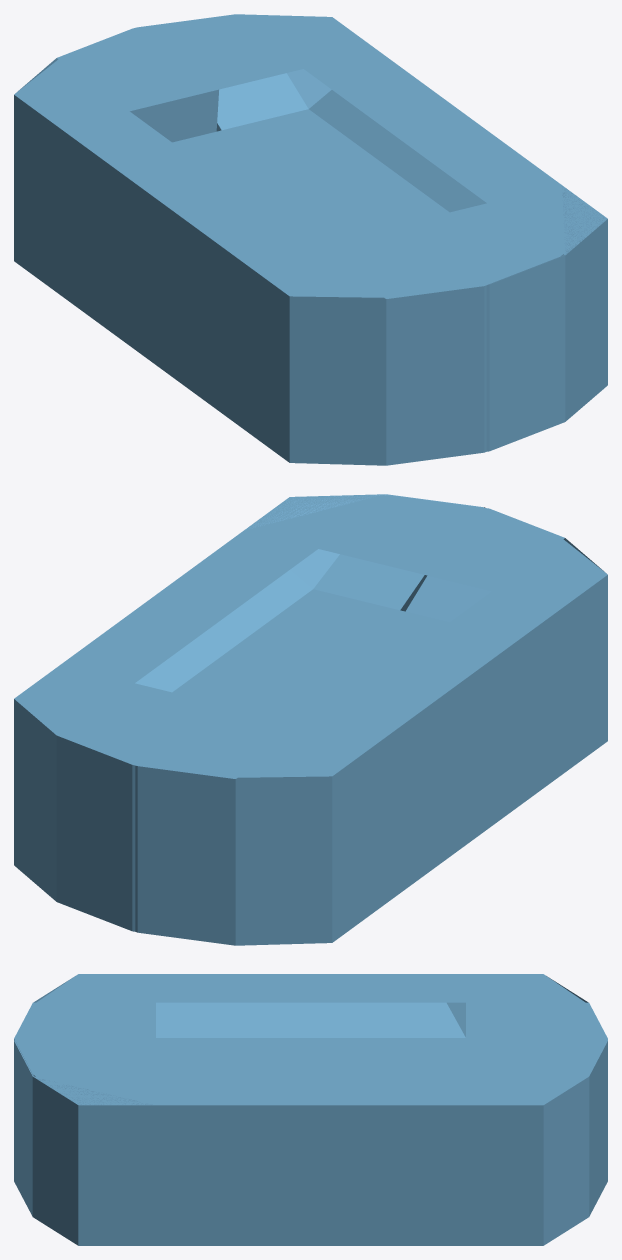
The model's file is blue_pill.fbx.
3 views of the same model, one above another, from view 1: azimuth 30°, elevation 25°; view 2: azimuth 150°, elevation 25°; view 3: azimuth 270°, elevation 25° (orthographic). The views are drawn at different scales.
Parts seen in each view (by area): view 1: Cube; view 2: Cube; view 3: Cube.
Part boxes in pixels (x1,y1,x2,y2): Cube: (14, 14, 607, 465); Cube: (14, 494, 607, 945); Cube: (14, 974, 607, 1245).
Bounding box in the file's own units: 100 × 50 × 191.
